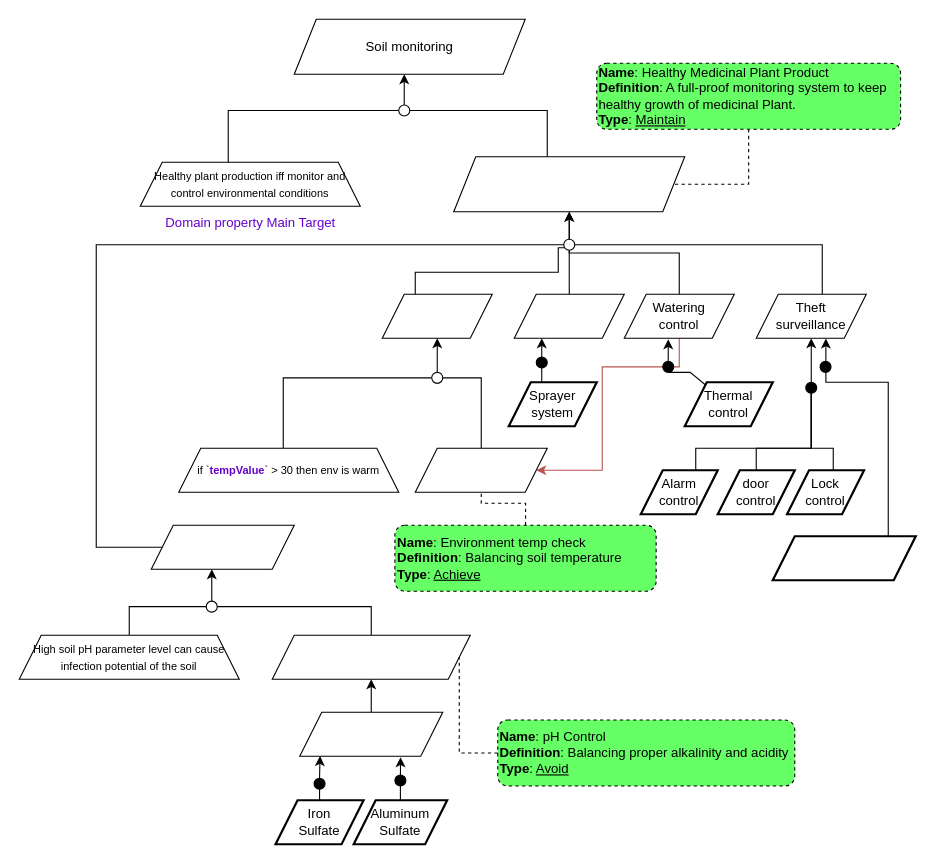
This 936x865 diagram has some shape labels left out. The shapes that lost their labels are listed below. From the top down, each one's centre as x and y in pixels, then its label:
At [569,184]: "Healthy Medicinal Plant production".
At [436,315]: "Temperature gathering".
At [568,315]: "Pest control".
At [480,469]: "ENV weather check".
At [222,546]: "Humidity and pH data gathering".
At [843,558]: "Camera motion detection".
At [370,656]: "pH control about acidity or alkalinity check".
At [371,733]: "Decrease pH level".
